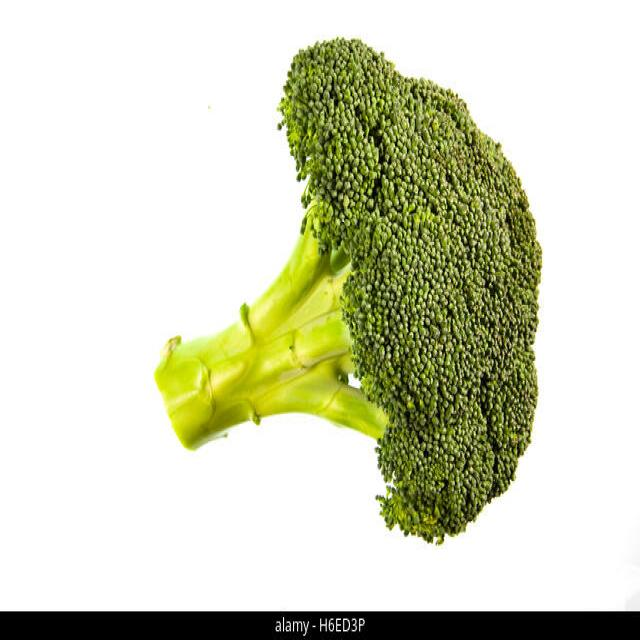broccoli: (149, 37, 545, 542)
